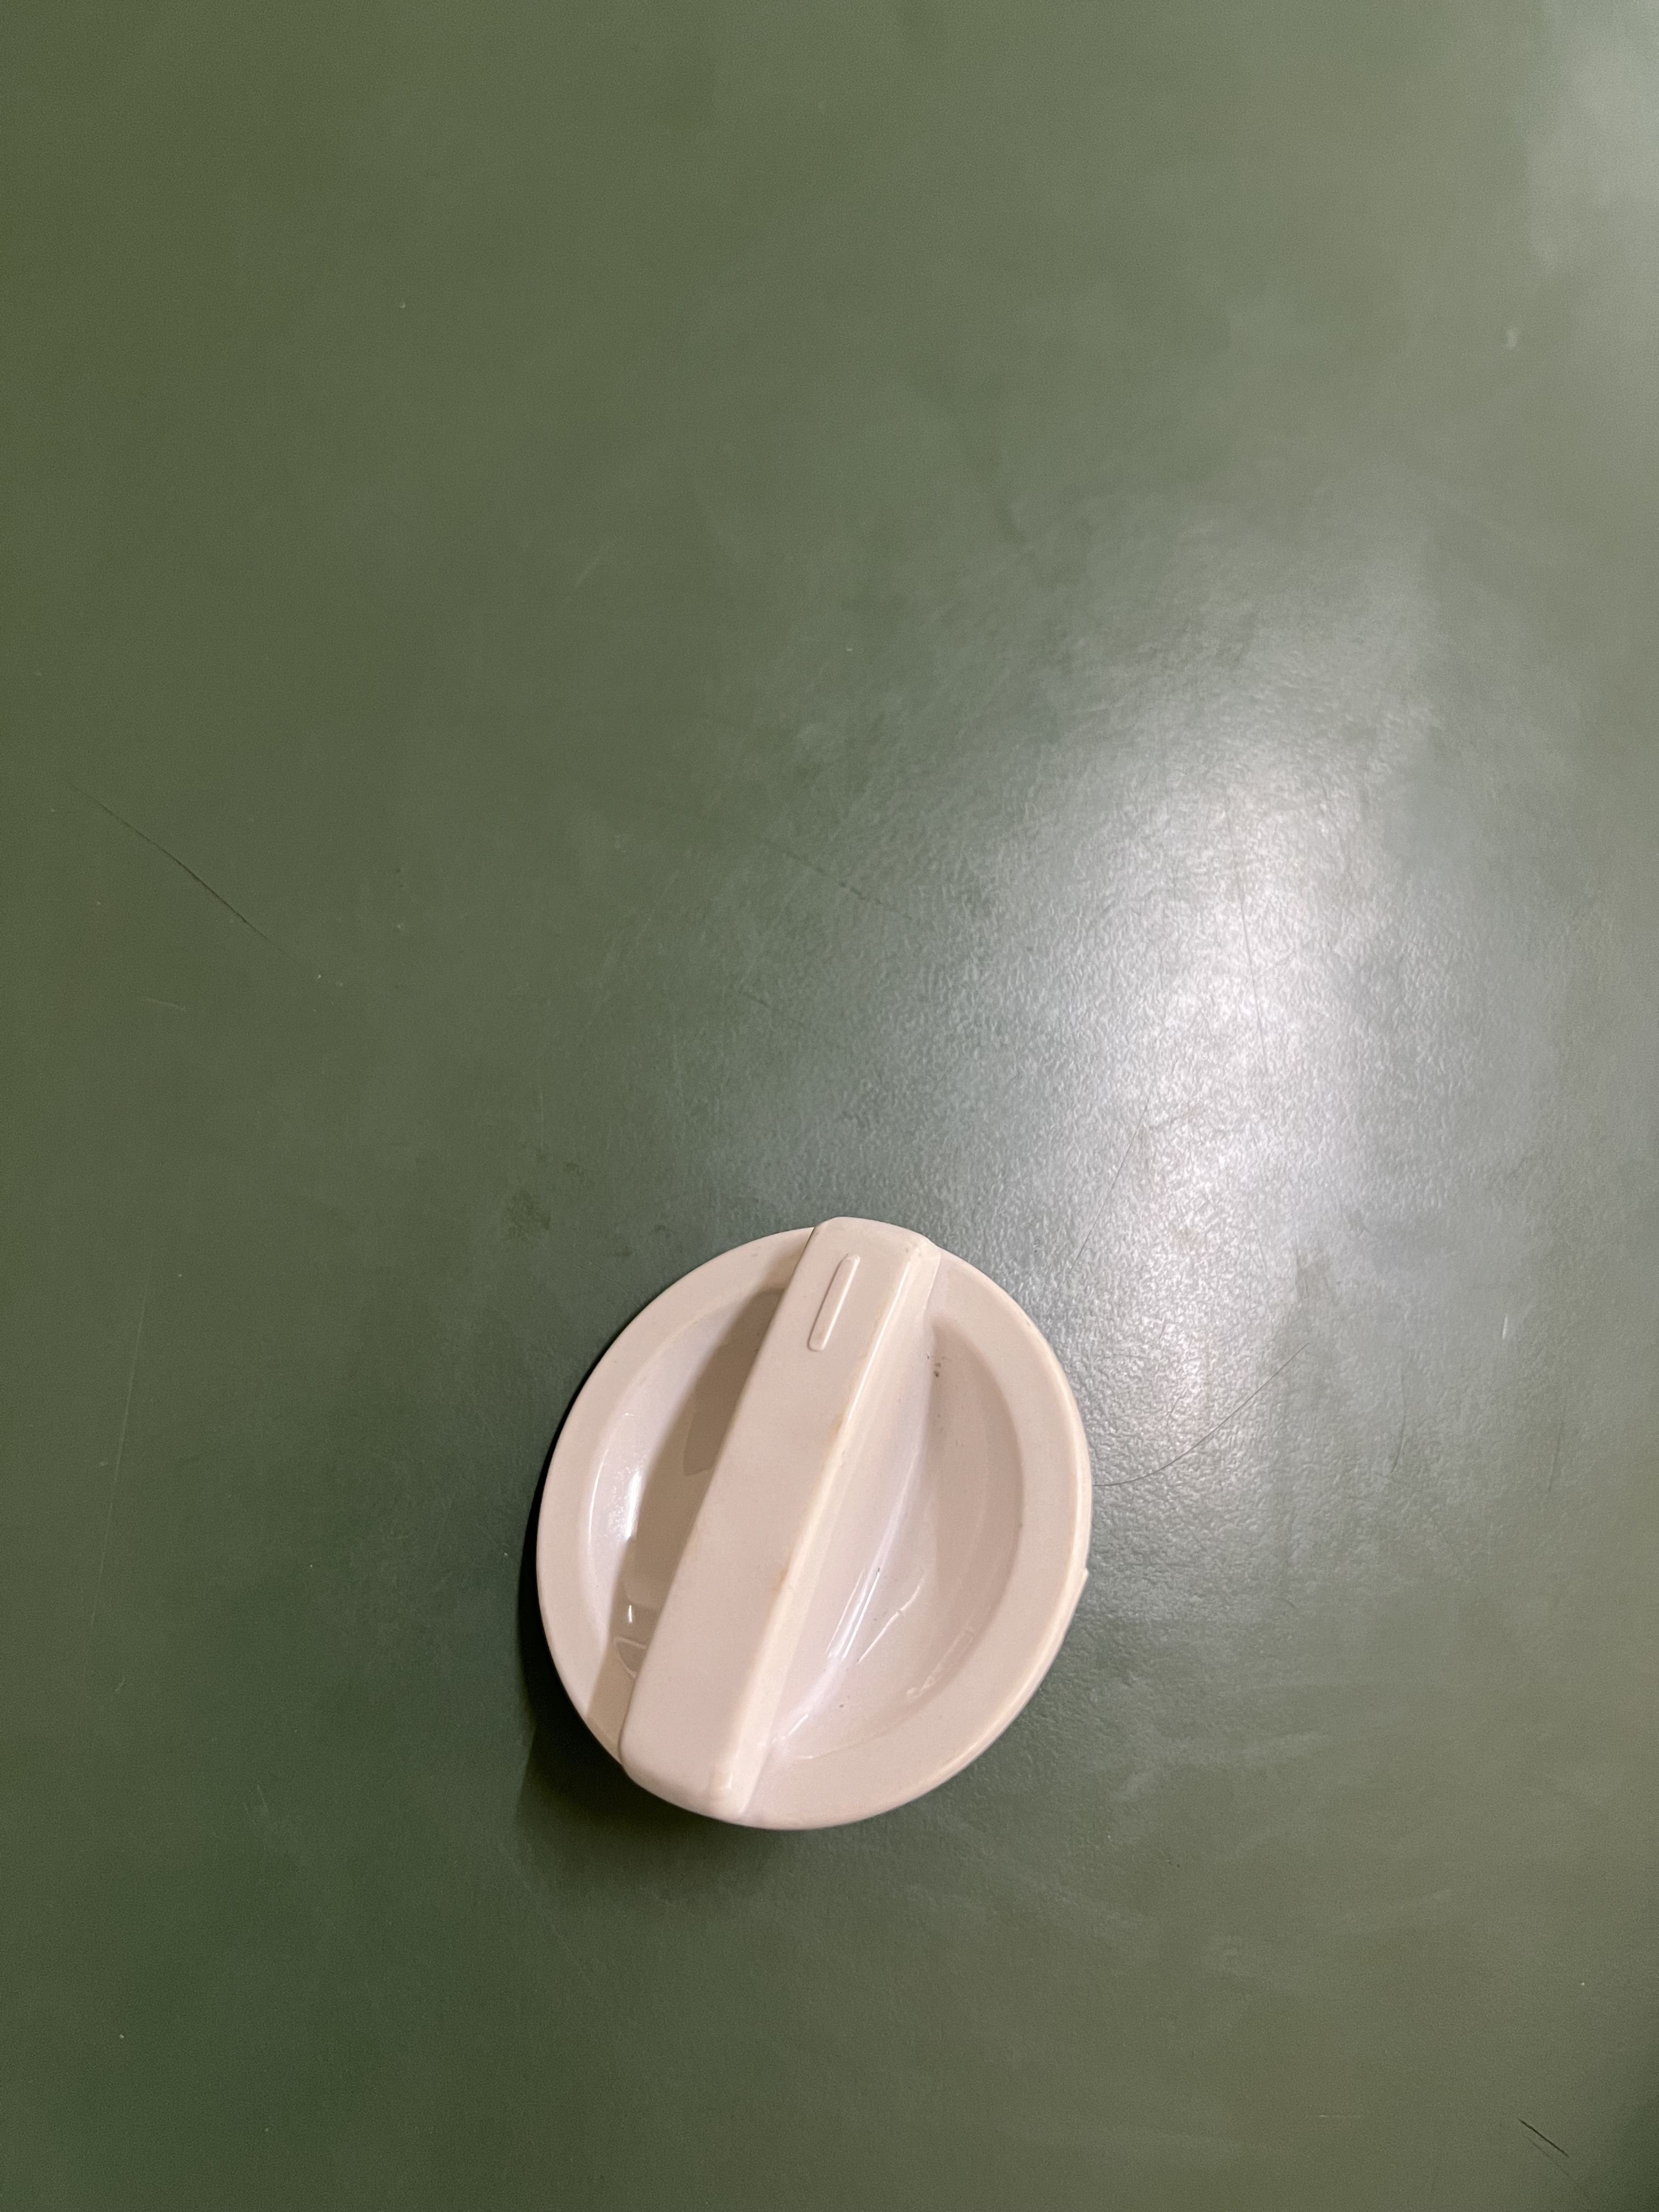regulator: (516, 1204, 1112, 1825)
